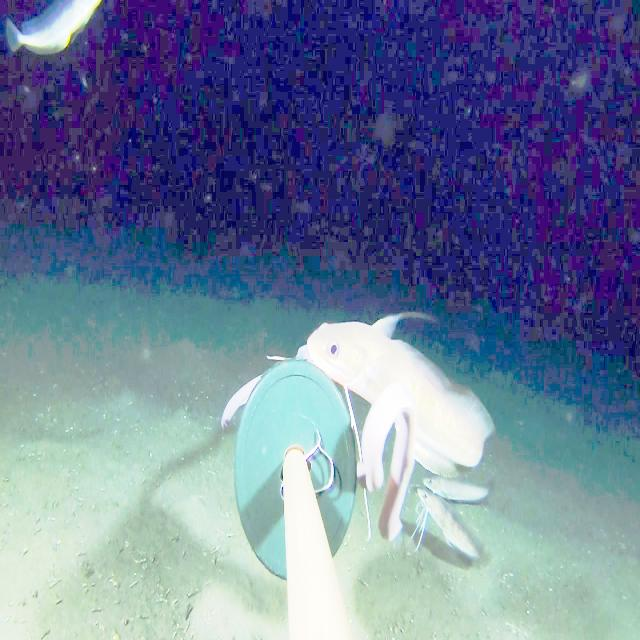eel: (202, 334, 320, 450), (358, 386, 418, 552)
fish: (294, 298, 522, 509), (412, 477, 494, 584), (0, 2, 103, 63), (420, 460, 503, 530)
pole: (233, 363, 357, 639)
